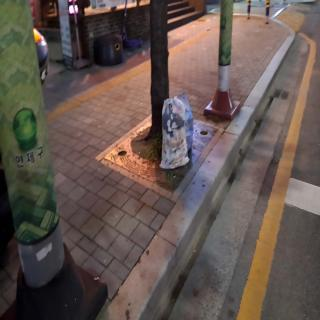Garbage: (158, 93, 188, 170)
